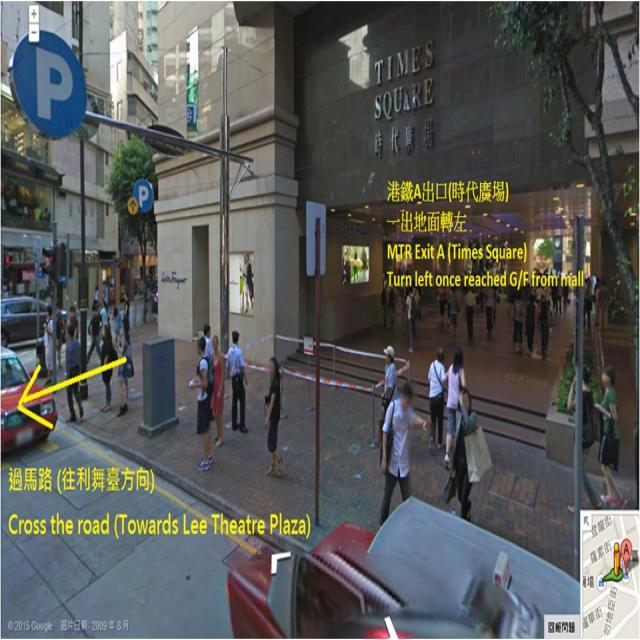body: (444, 260, 575, 327), (378, 380, 433, 528), (592, 359, 629, 511), (567, 363, 603, 517), (450, 385, 479, 524), (189, 333, 214, 473), (443, 345, 468, 471), (263, 356, 285, 480), (425, 344, 449, 454), (224, 328, 248, 435), (62, 323, 85, 424), (115, 314, 135, 418), (209, 332, 225, 450), (98, 321, 118, 415), (83, 302, 107, 371), (7, 192, 53, 224), (203, 322, 216, 423), (341, 243, 371, 286), (133, 266, 158, 315), (378, 344, 398, 404), (596, 278, 612, 342), (511, 290, 526, 356), (404, 286, 418, 355), (43, 305, 54, 386), (537, 289, 549, 362), (384, 273, 398, 332), (524, 290, 536, 358), (55, 300, 66, 371), (448, 283, 461, 339), (482, 284, 495, 338), (435, 272, 447, 330), (407, 284, 419, 339), (244, 252, 255, 312), (110, 304, 123, 350), (122, 289, 132, 347), (582, 275, 592, 331), (380, 273, 390, 329), (466, 284, 476, 339), (240, 254, 249, 315), (542, 295, 551, 351), (594, 280, 604, 330), (399, 276, 408, 331), (73, 298, 82, 347), (66, 305, 78, 341), (593, 276, 601, 327), (561, 272, 570, 313), (550, 275, 558, 317), (555, 276, 563, 316), (99, 298, 109, 324), (557, 272, 563, 312), (93, 284, 99, 308), (567, 272, 571, 301), (572, 285, 576, 300)
